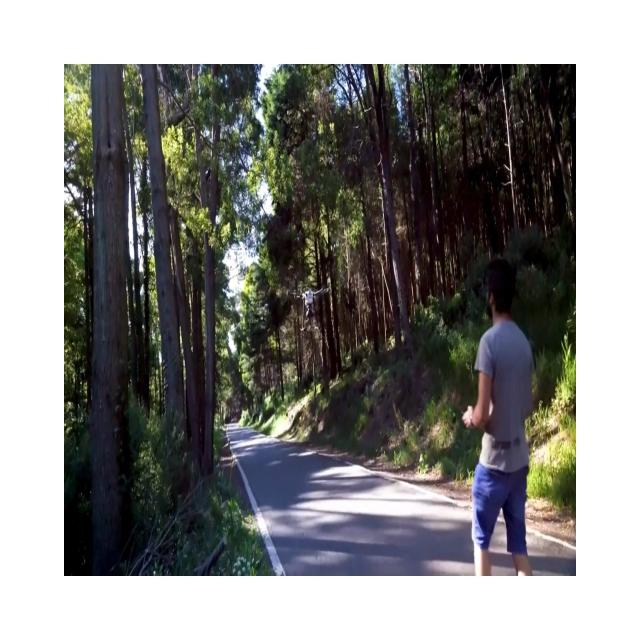drone: (286, 284, 331, 332)
